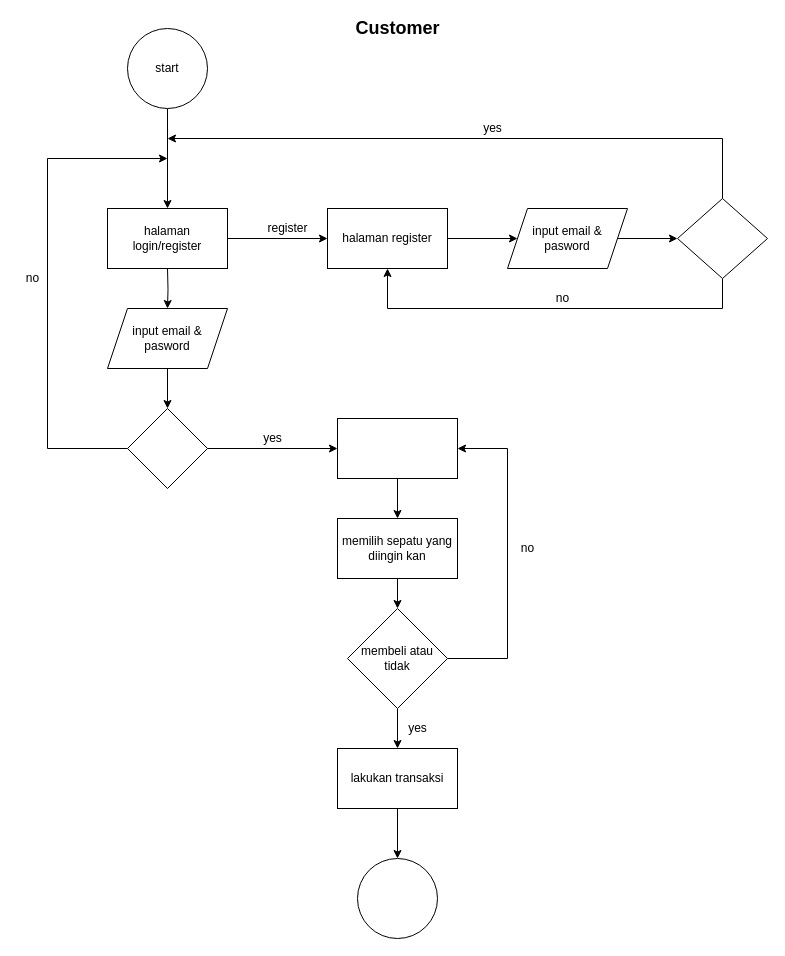
The diagram is 785 pixels wide and 956 high, and some of its shapes have lost their labels. Here are the shapes that lost their labels. From the top down, the centre of each, then its label:
point (722, 238): berhasil daftar?
point (167, 448): berhasil?
point (397, 448): halaman utama
point (397, 898): end
